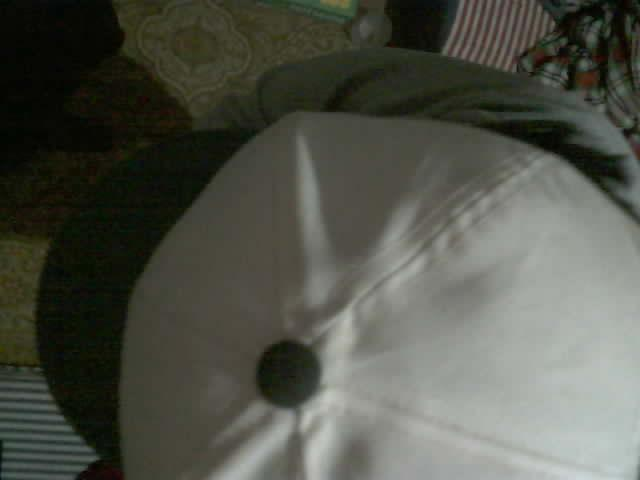cap: (37, 110, 639, 479)
